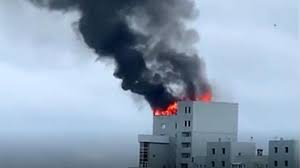fire: (136, 74, 213, 126)
